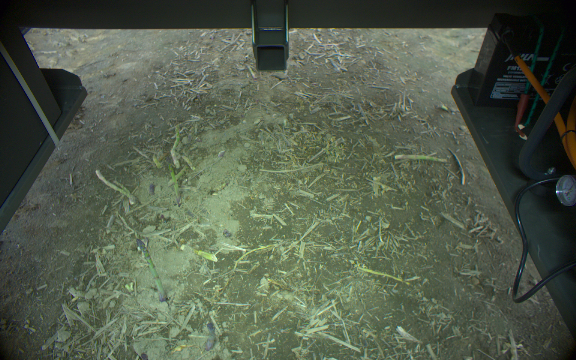aspa: (135, 237, 167, 301), (163, 158, 181, 202), (168, 124, 182, 168), (205, 321, 216, 352)
